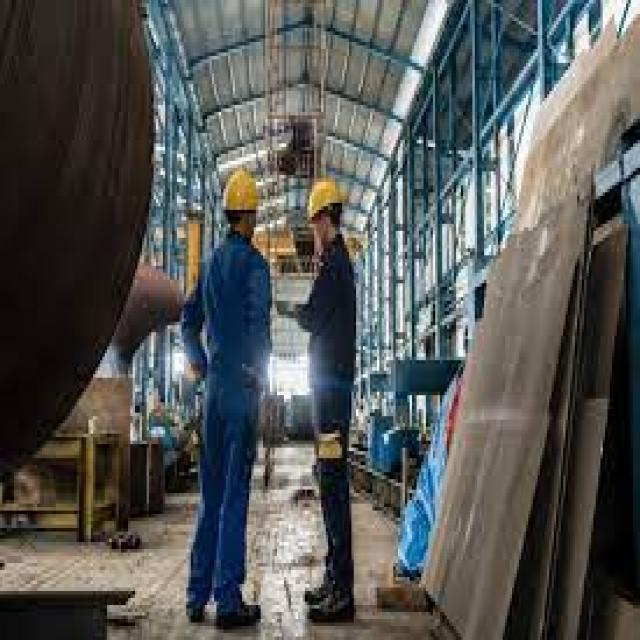Reflective-Jacket: (188, 234, 282, 416), (296, 238, 370, 385)
Safety-Helmet: (214, 158, 268, 228), (298, 168, 354, 231)
